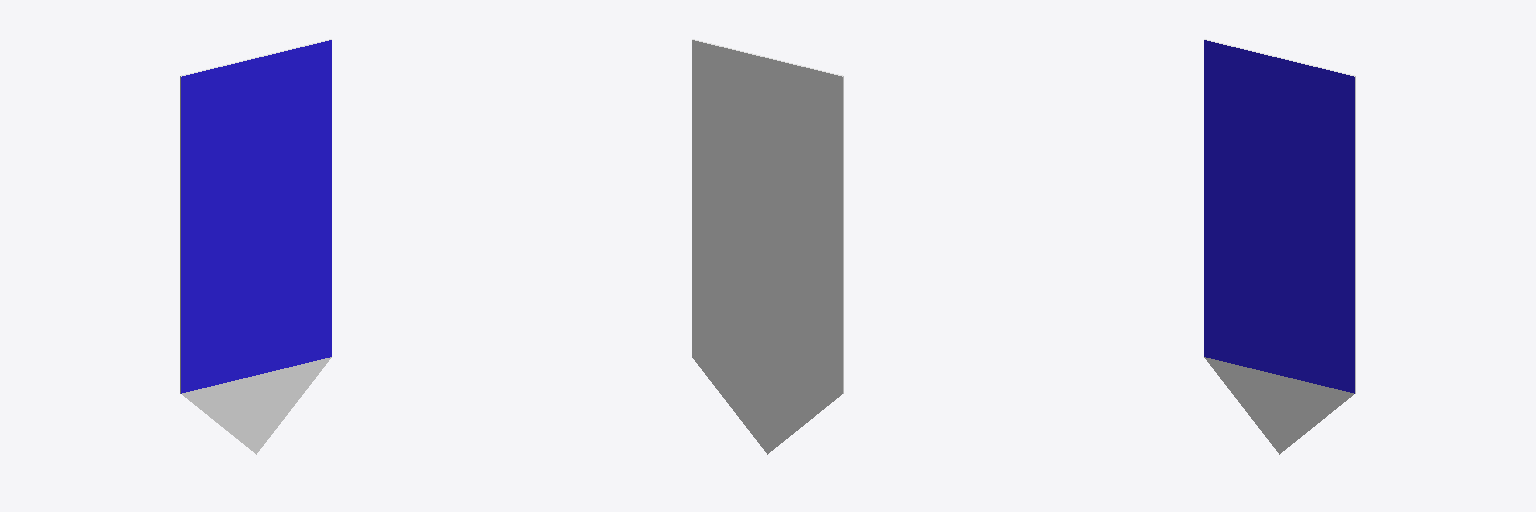
The model's file is ARC_ChaserSolarArray.obj.
3 views of the same model, side by side, from view 1: azimuth 30°, elevation 25°; view 2: azimuth 150°, elevation 25°; view 3: azimuth 330°, elevation 25° (orthographic).
Visible parts, largest first — view 1: Solar Array; view 2: Solar Array; view 3: Solar Array.
Part boxes in pixels (x1,y1,x2,y2): Solar Array: (180,39,331,454); Solar Array: (692,39,843,454); Solar Array: (1204,39,1355,454).
Bounding box in the file's own units: 2 × 5 × 0.025.